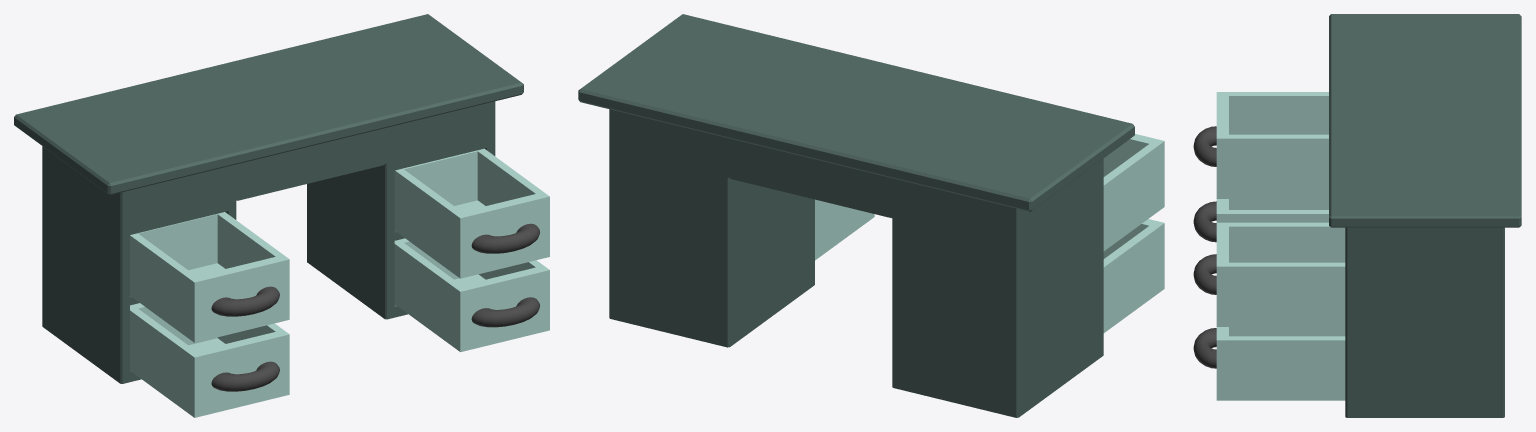
The model's file is Desk.fbx.
3 views of the same model, side by side, from view 1: azimuth 30°, elevation 25°; view 2: azimuth 150°, elevation 25°; view 3: azimuth 270°, elevation 25° (orthographic). The views are drawn at different scales.
Parts seen in each view (by area): view 1: Desk_Head, pCube4, pCube1, pCube3, pCube2, pTorus4, pTorus3, pTorus1, pTorus2; view 2: Desk_Head, pCube4, pCube3, pCube2; view 3: Desk_Head, pCube1, pCube4, pCube2, pCube3, pTorus1, pTorus4, pTorus2, pTorus3.
Boxes of the visible parts, <box> form: Desk_Head: <box>14,14,523,383</box>; pCube4: <box>130,212,289,342</box>; pCube1: <box>394,148,549,278</box>; pCube3: <box>130,303,289,417</box>; pCube2: <box>394,238,549,352</box>; pTorus4: <box>211,286,279,316</box>; pTorus3: <box>211,361,279,391</box>; pTorus1: <box>471,223,539,253</box>; pTorus2: <box>471,297,539,327</box>; Desk_Head: <box>578,14,1134,417</box>; pCube4: <box>1103,134,1164,251</box>; pCube3: <box>1103,219,1164,332</box>; pCube2: <box>815,199,874,260</box>; Desk_Head: <box>1329,14,1521,417</box>; pCube1: <box>1216,222,1345,326</box>; pCube4: <box>1216,92,1328,198</box>; pCube2: <box>1216,327,1345,400</box>; pCube3: <box>1216,199,1328,222</box>; pTorus1: <box>1193,254,1216,294</box>; pTorus4: <box>1193,126,1216,166</box>; pTorus2: <box>1193,328,1216,368</box>; pTorus3: <box>1193,201,1216,242</box>.
Bounding box in the file's own units: 20 × 9.69 × 13.62.
